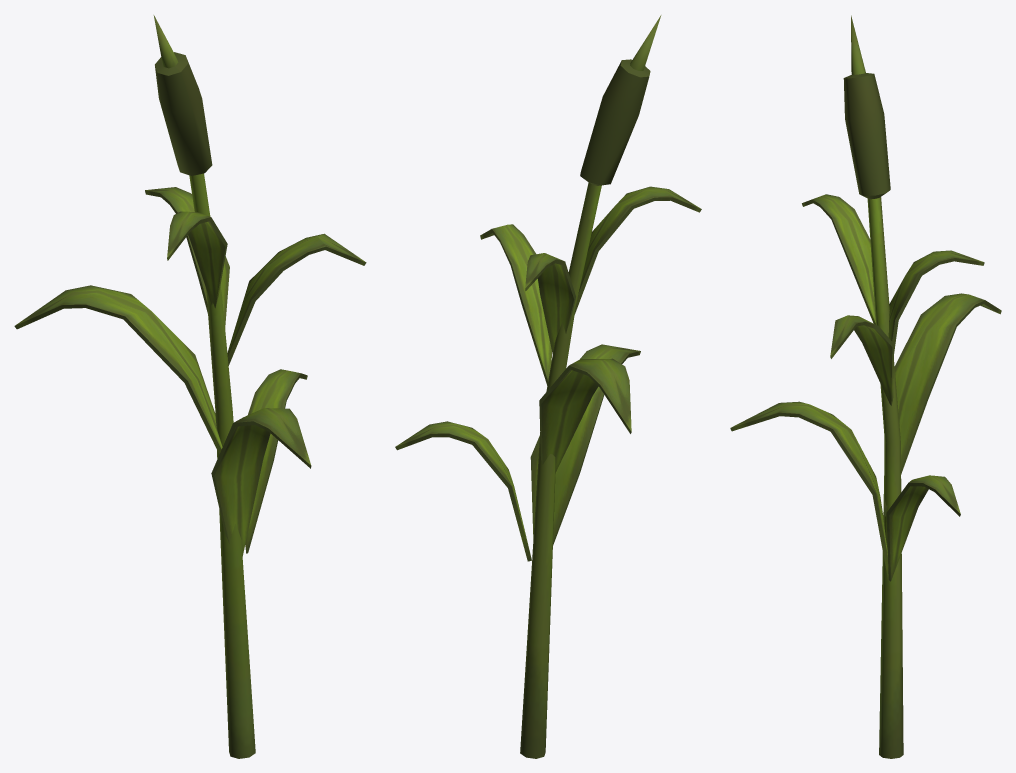
The model's file is SM_Reed2.fbx.
The picture shows the model from 3 angles, left to right: view 1: azimuth 30°, elevation 25°; view 2: azimuth 150°, elevation 25°; view 3: azimuth 270°, elevation 25°; orthographic projection. The views are drawn at different scales.
Parts seen in each view (by area): view 1: SM_Reed2; view 2: SM_Reed2; view 3: SM_Reed2.
Part boxes in pixels (box(x1,y1,x2,y2)): SM_Reed2: box(14, 15, 366, 758); SM_Reed2: box(395, 15, 701, 758); SM_Reed2: box(730, 15, 1001, 758).
Bounding box in the file's own units: 174 × 483 × 171.
